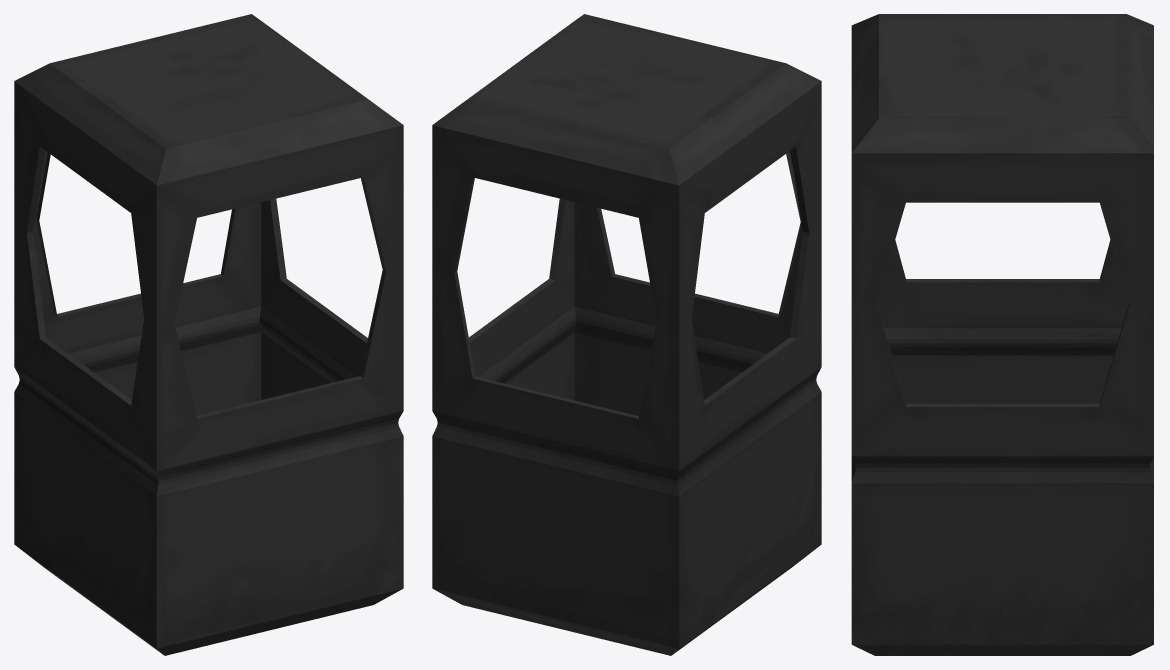
Rendered from trafficLightEntity.obj.
The picture shows the model from 3 angles, left to right: view 1: azimuth 30°, elevation 25°; view 2: azimuth 150°, elevation 25°; view 3: azimuth 270°, elevation 25°; orthographic projection. The views are drawn at different scales.
Parts seen in each view (by area): view 1: Cube; view 2: Cube; view 3: Cube.
Part boxes in pixels (bbox=[...]): Cube: bbox=[14, 14, 403, 655]; Cube: bbox=[432, 14, 821, 655]; Cube: bbox=[851, 14, 1153, 655].
Bounding box in the file's own units: 1.45 × 2.79 × 1.44.
1 material, 1 textured.
